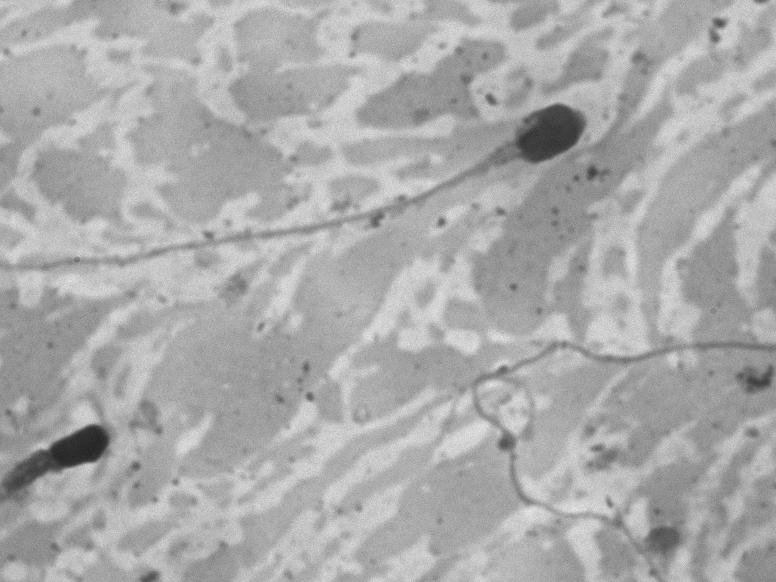Abnormal: (17, 80, 625, 278)
